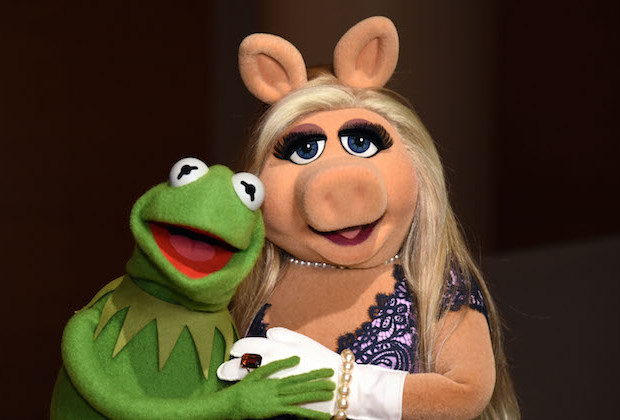kermit: (126, 155, 272, 313)
